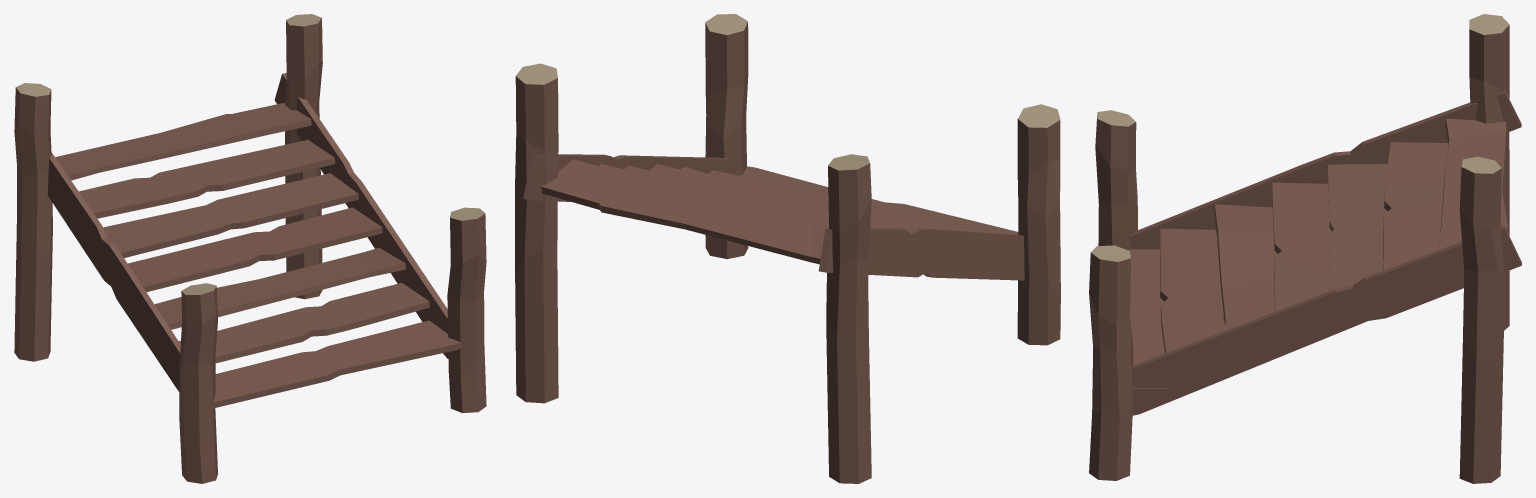
Rendered from Dock_Stairs.glb.
3 views of the same model, side by side, from view 1: azimuth 30°, elevation 25°; view 2: azimuth 150°, elevation 25°; view 3: azimuth 270°, elevation 25° (orthographic). The views are drawn at different scales.
Parts seen in each view (by area): view 1: Dock_Stairs; view 2: Dock_Stairs; view 3: Dock_Stairs.
Boxes of the visible parts, x1,y1,x2,y2 form: Dock_Stairs: (14,14,486,483); Dock_Stairs: (515,14,1060,483); Dock_Stairs: (1089,14,1521,483).
Size of the model in its own units: 8.7 by 7.63 by 9.47.
